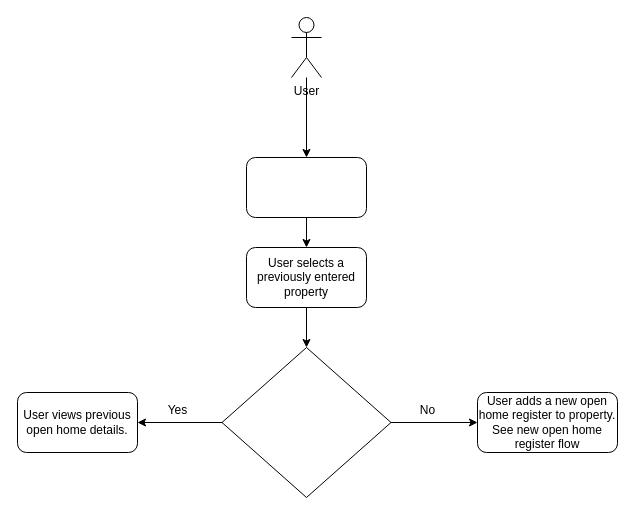
Some shapes in this 635 by 515 pixel diagram are drawn without their labels. The box of each missing label's shape, as (x1, y1, x2, y2) in pixels:
Are there previous open home registers for this property?: (221, 346, 391, 498)
Open home page: (246, 156, 366, 218)
